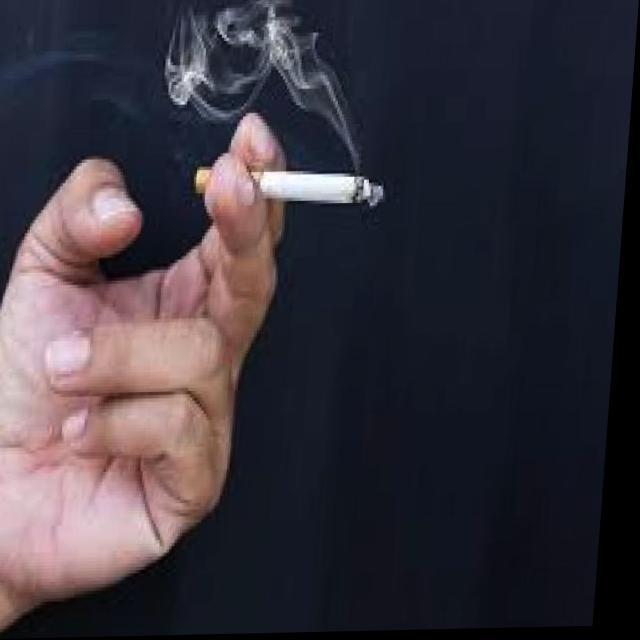Smoke: (145, 0, 415, 202)
